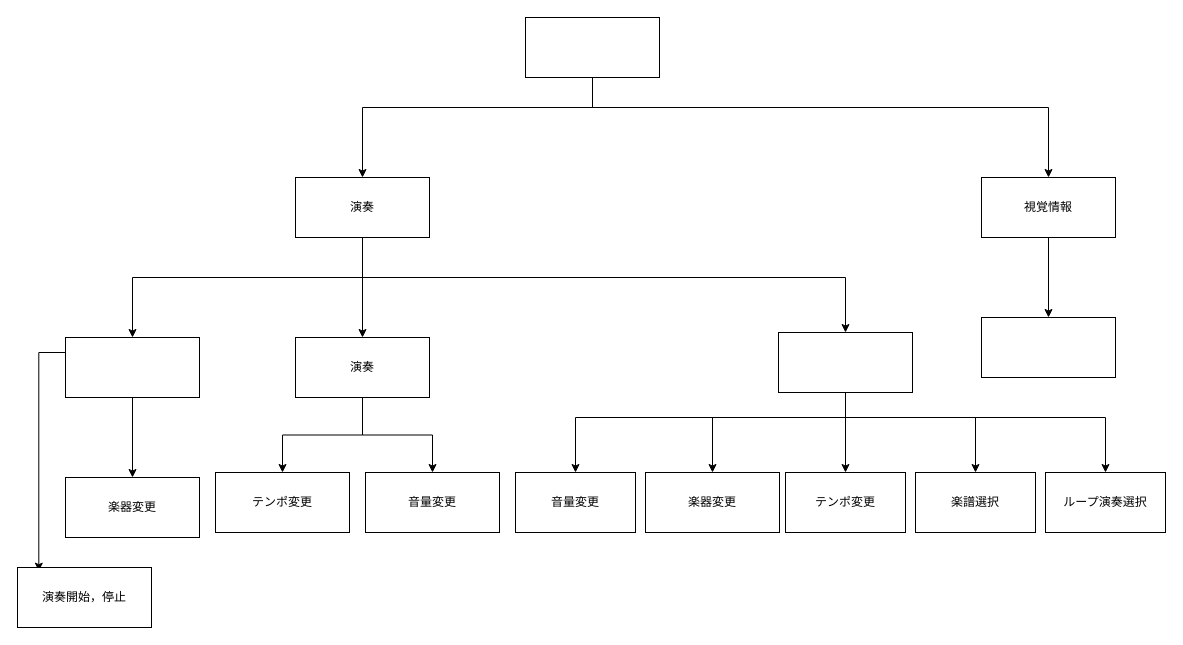
Image size: 1183x645. Some labels were removed from this diagram. The box of each missing label's shape, as (x1, y1, x2, y2) in pixels:
LEDマトリクスでの歌詞表示: (980, 316, 1116, 378)
LED同期演奏システム: (524, 16, 660, 78)
webサイト: (778, 332, 912, 392)
演奏前制御: (64, 336, 200, 398)
